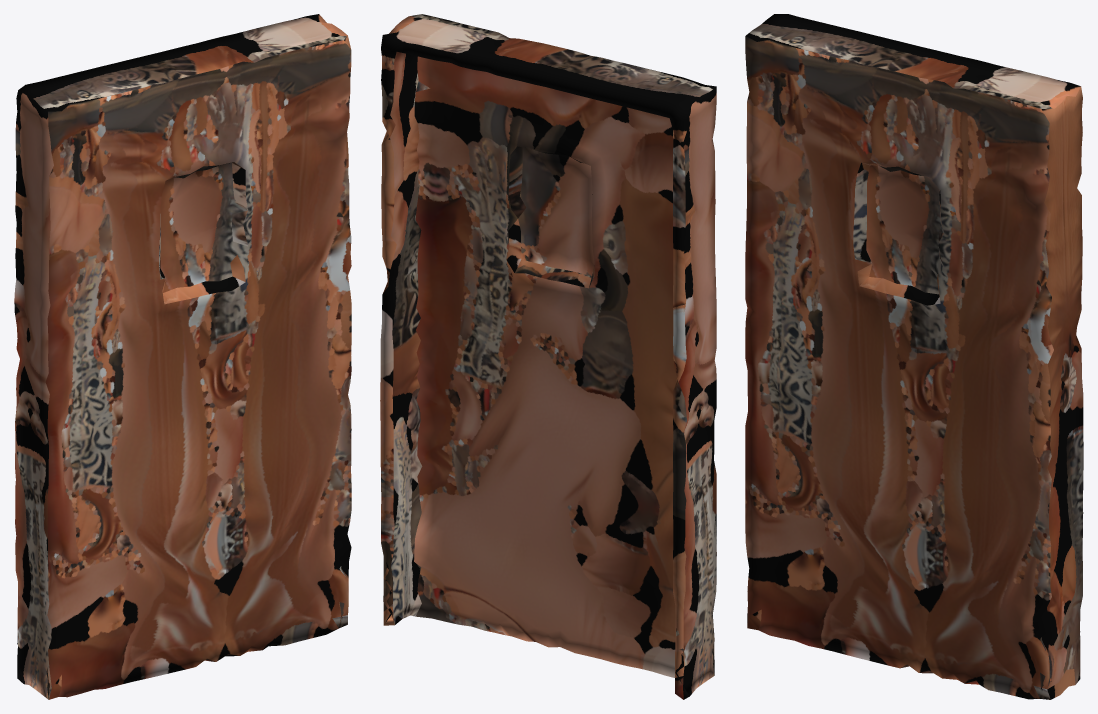
Rendered from SecureDoor.fbx.
3 renders of one model, left to right at view 1: azimuth 30°, elevation 25°; view 2: azimuth 150°, elevation 25°; view 3: azimuth 330°, elevation 25°, orthographic.
Parts seen in each view (by area): view 1: SecureDoor; view 2: SecureDoor; view 3: SecureDoor.
Part boxes in pixels (bbox=[...]): SecureDoor: bbox=[14, 14, 351, 699]; SecureDoor: bbox=[380, 14, 716, 699]; SecureDoor: bbox=[745, 14, 1083, 699].
Size of the model in its own units: 134 by 250 by 27.84.
